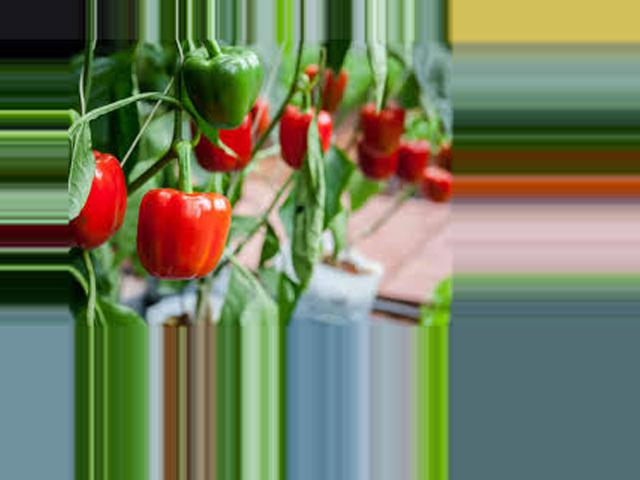bell_pepper: (278, 90, 337, 184)
